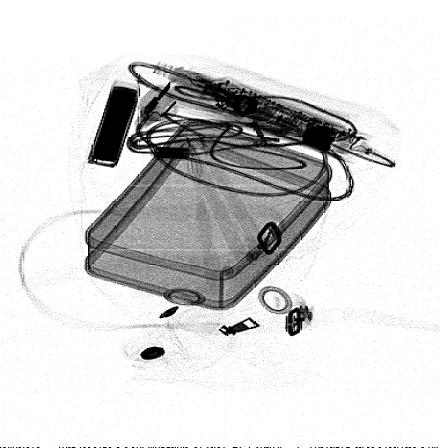Powerbank: (85, 79, 142, 169)
